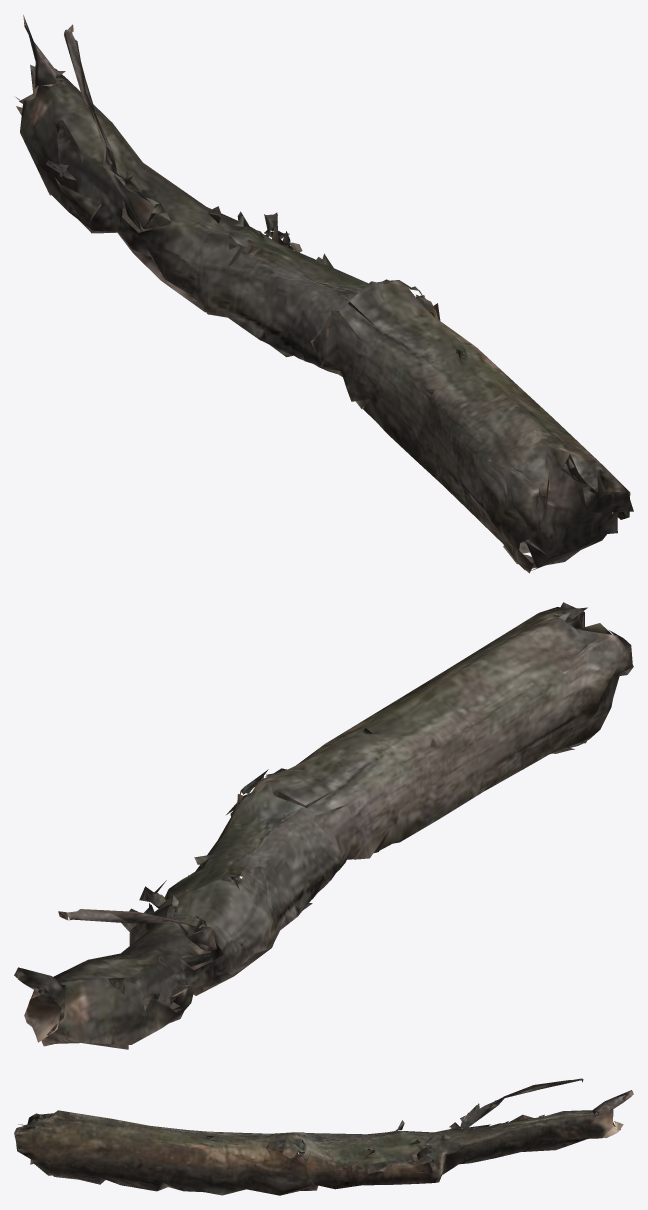
The model's file is branch_c.glb.
The picture shows the model from 3 angles, top to bottom: view 1: azimuth 30°, elevation 25°; view 2: azimuth 150°, elevation 25°; view 3: azimuth 270°, elevation 25°; orthographic projection. The views are drawn at different scales.
Parts seen in each view (by area): view 1: dry_branches_medium_01_c; view 2: dry_branches_medium_01_c; view 3: dry_branches_medium_01_c.
Boxes of the visible parts, bbox=[...] form: dry_branches_medium_01_c: bbox=[14, 15, 633, 573]; dry_branches_medium_01_c: bbox=[14, 602, 633, 1049]; dry_branches_medium_01_c: bbox=[14, 1078, 633, 1195].
Size of the model in its own units: 0.1278 by 0.1426 by 0.7801.
1 material, 1 textured.
